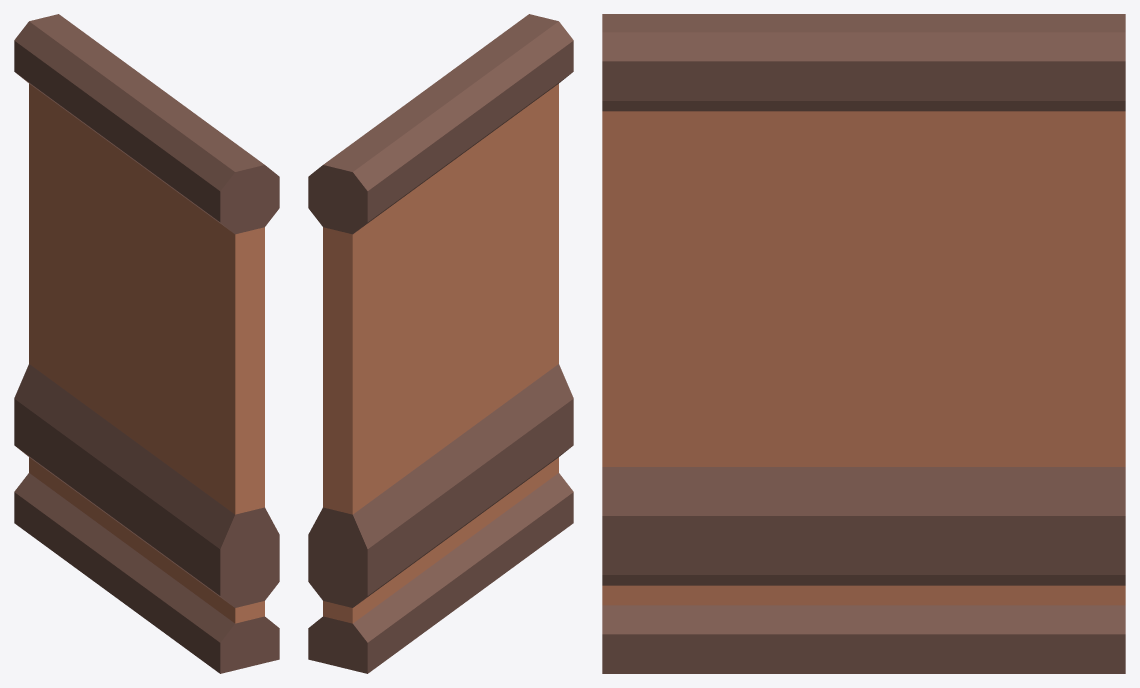
The model's file is Deck_Wall_snaps002 (6).fbx.
3 renders of one model, left to right at view 1: azimuth 30°, elevation 25°; view 2: azimuth 150°, elevation 25°; view 3: azimuth 270°, elevation 25°, orthographic. The views are drawn at different scales.
Visible parts, largest first — view 1: Deck_Wall_snaps002__6_; view 2: Deck_Wall_snaps002__6_; view 3: Deck_Wall_snaps002__6_.
Part boxes in pixels (bbox=[...]): Deck_Wall_snaps002__6_: bbox=[14, 14, 279, 673]; Deck_Wall_snaps002__6_: bbox=[308, 14, 573, 673]; Deck_Wall_snaps002__6_: bbox=[602, 14, 1125, 673].
Bounding box in the file's own units: 50 × 400 × 300.
